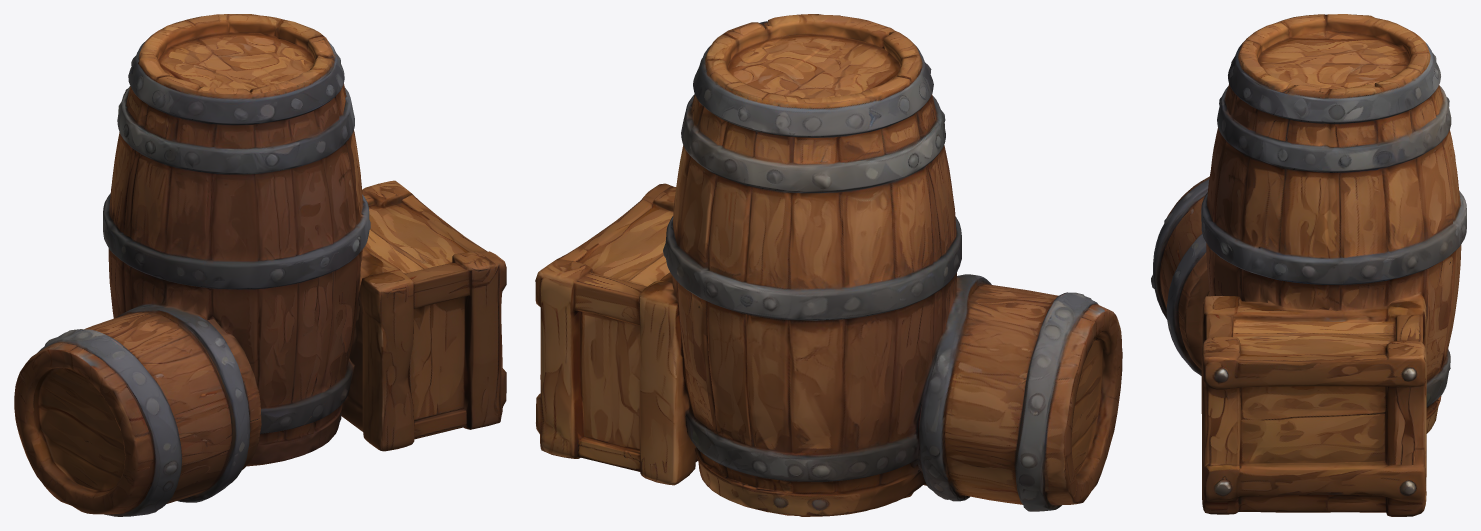
The model's file is barrels.glb.
3 renders of one model, left to right at view 1: azimuth 30°, elevation 25°; view 2: azimuth 150°, elevation 25°; view 3: azimuth 270°, elevation 25°, orthographic. The views are drawn at different scales.
Parts seen in each view (by area): view 1: tripo_node_5b348876-f523-4eb8-9b60-a84ad15aada1; view 2: tripo_node_5b348876-f523-4eb8-9b60-a84ad15aada1; view 3: tripo_node_5b348876-f523-4eb8-9b60-a84ad15aada1.
Part boxes in pixels (x1,y1,x2,y2): tripo_node_5b348876-f523-4eb8-9b60-a84ad15aada1: (14,14,506,516); tripo_node_5b348876-f523-4eb8-9b60-a84ad15aada1: (535,14,1122,516); tripo_node_5b348876-f523-4eb8-9b60-a84ad15aada1: (1151,14,1466,516).
Bounding box in the file's own units: 1 × 0.8653 × 0.6416.
1 material, 1 textured.
